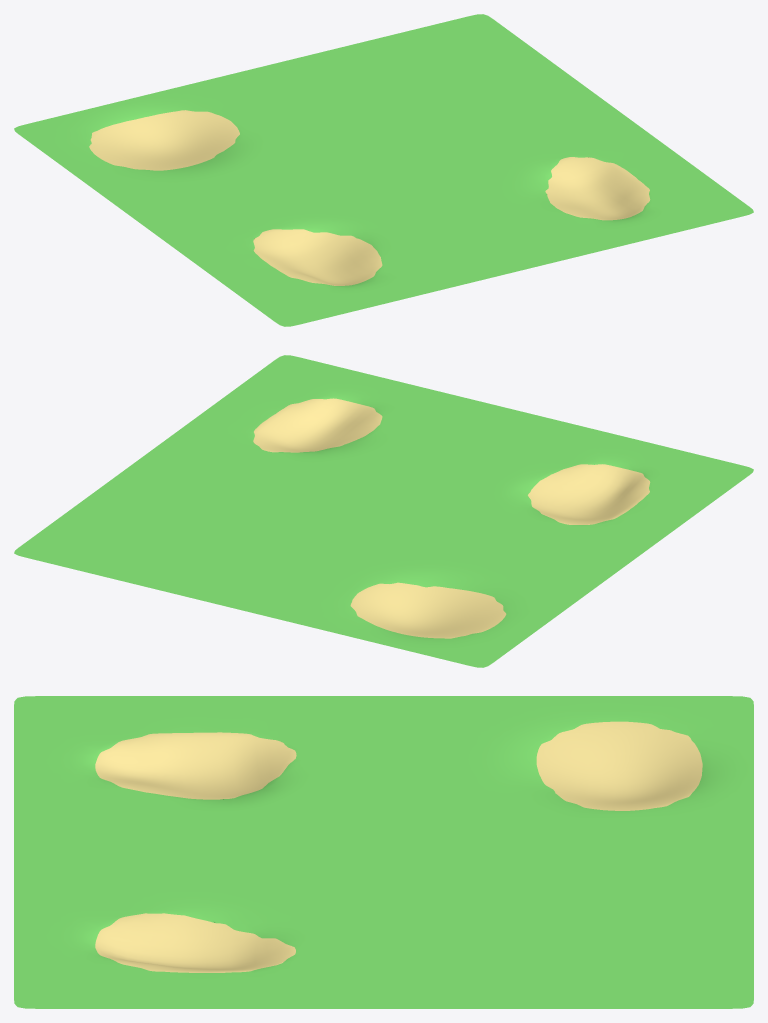
The model's file is Ground.fbx.
The picture shows the model from 3 angles, top to bottom: view 1: azimuth 30°, elevation 25°; view 2: azimuth 150°, elevation 25°; view 3: azimuth 270°, elevation 25°; orthographic projection. The views are drawn at different scales.
Visible parts, largest first — view 1: Ground; view 2: Ground; view 3: Ground.
Boxes of the visible parts, <box> form: Ground: <box>14,14,753,326</box>; Ground: <box>14,355,753,667</box>; Ground: <box>14,696,753,1008</box>.
Size of the model in its own units: 103 by 3.02 by 103.
